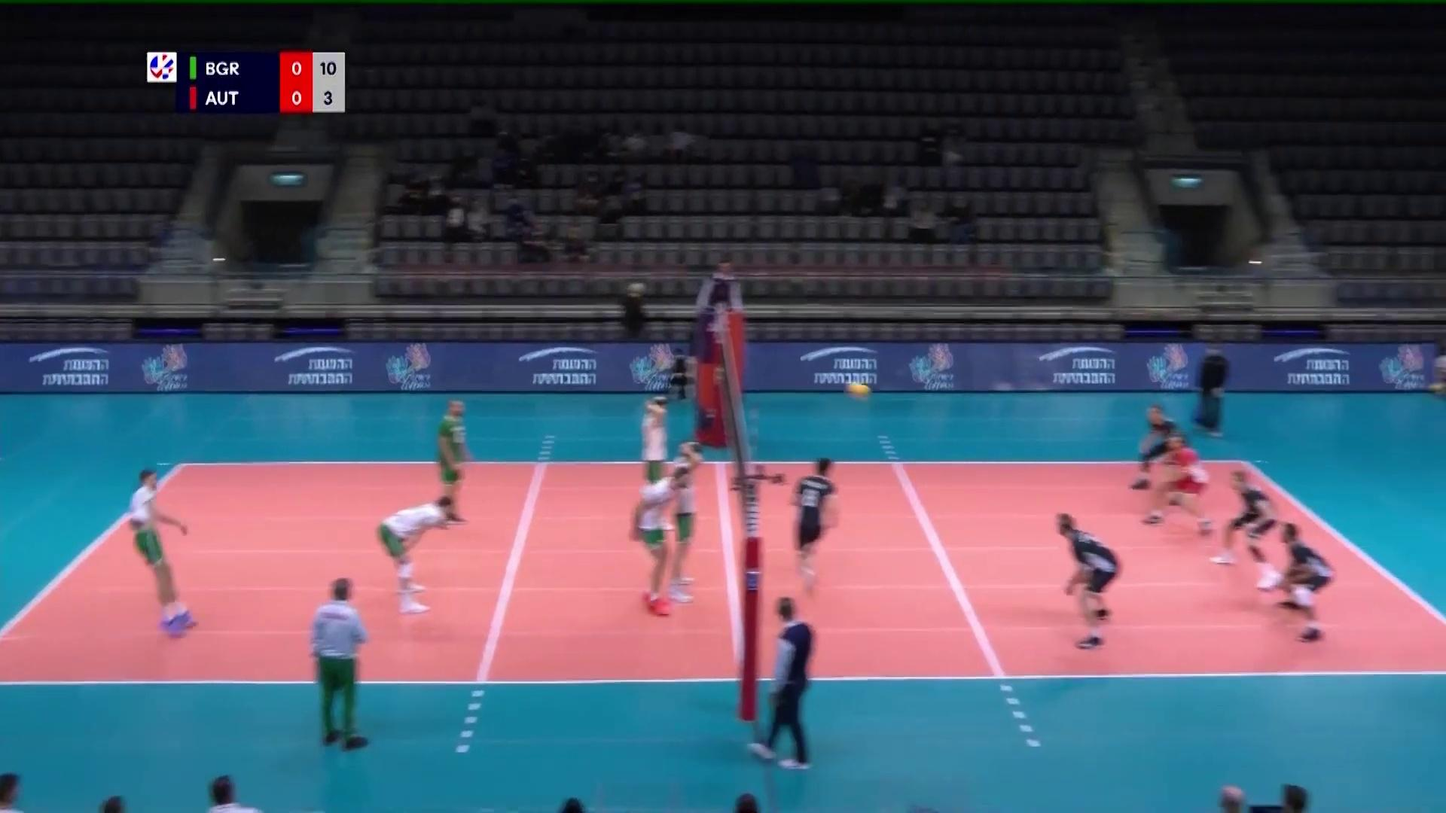ball: (847, 382, 873, 398)
